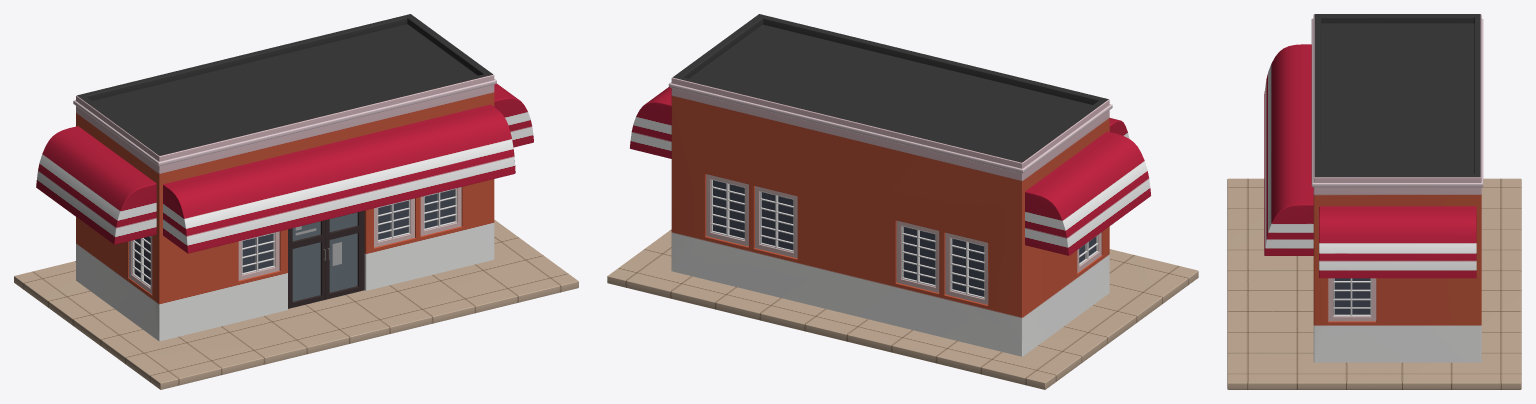
The picture shows the model from 3 angles, left to right: view 1: azimuth 30°, elevation 25°; view 2: azimuth 150°, elevation 25°; view 3: azimuth 270°, elevation 25°; orthographic projection. The views are drawn at different scales.
Parts seen in each view (by area): view 1: store.1_1; view 2: store.1_1; view 3: store.1_1.
Part boxes in pixels (x1,y1,x2,y2): store.1_1: (14, 14, 578, 389); store.1_1: (607, 14, 1198, 389); store.1_1: (1227, 14, 1521, 389).
Bounding box in the file's own units: 8.87 × 3.87 × 5.37.
Materials: 1 (1 with a texture image).
